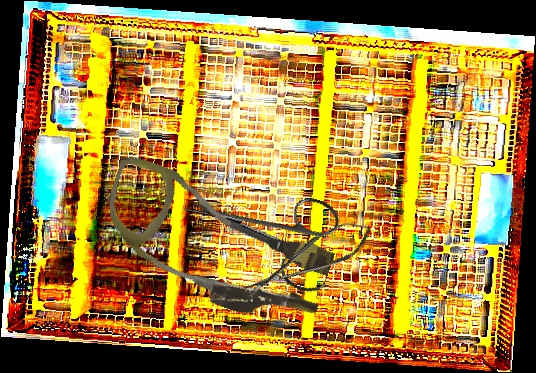Cannula: (87, 152, 345, 336)
Iris Scissors: (171, 163, 348, 296)
Micro Scissor: (237, 214, 378, 304)
